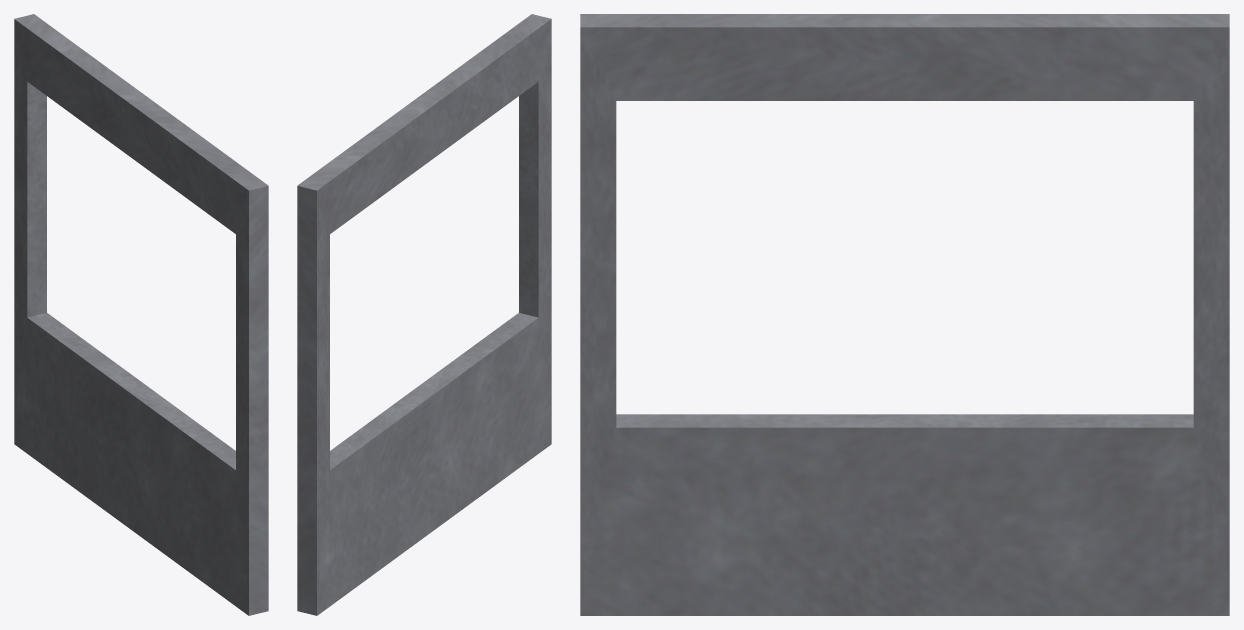
Rendered from wall_w_win.fbx.
The picture shows the model from 3 angles, left to right: view 1: azimuth 30°, elevation 25°; view 2: azimuth 150°, elevation 25°; view 3: azimuth 270°, elevation 25°; orthographic projection. The views are drawn at different scales.
Visible parts, largest first — view 1: wall_w_win; view 2: wall_w_win; view 3: wall_w_win.
Boxes of the visible parts, left/top/right/bottom form: wall_w_win: left=14, top=14, right=268, bottom=615; wall_w_win: left=297, top=14, right=551, bottom=615; wall_w_win: left=580, top=14, right=1229, bottom=615.
Size of the model in its own units: 19.62 by 400 by 400.
Materials: 1 (1 with a texture image).
